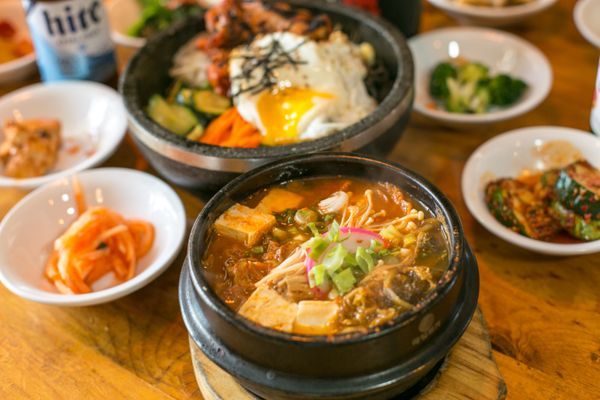curry: (429, 57, 525, 113)
pizza: (25, 0, 118, 86)
sushi: (179, 152, 478, 395), (121, 1, 415, 189), (0, 167, 186, 307), (461, 125, 600, 259), (406, 27, 553, 131), (0, 79, 129, 189), (0, 1, 38, 95), (571, 0, 600, 52)
